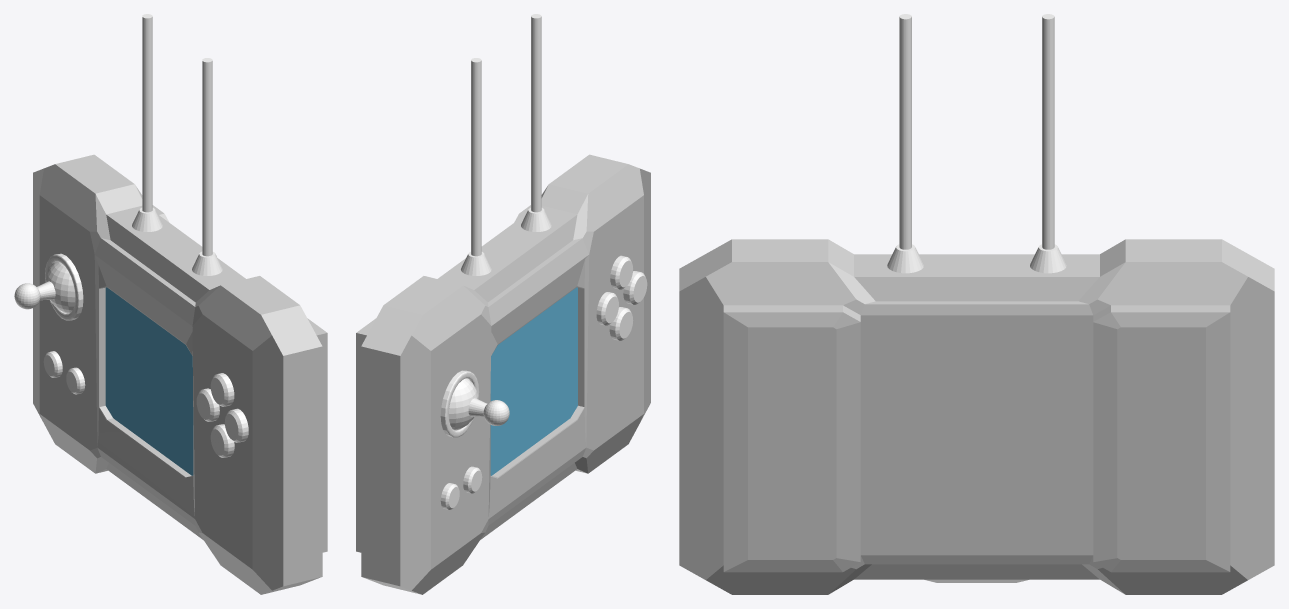
File: remoteControl.glb
3 renders of one model, left to right at view 1: azimuth 30°, elevation 25°; view 2: azimuth 150°, elevation 25°; view 3: azimuth 270°, elevation 25°, orthographic. The views are drawn at different scales.
Parts seen in each view (by area): view 1: 显示屏; view 2: 显示屏; view 3: 显示屏.
Part boxes in pixels (x1=…): 显示屏: x1=14, y1=14, x2=327, y2=594; 显示屏: x1=356, y1=14, x2=650, y2=594; 显示屏: x1=679, y1=14, x2=1274, y2=594.
Bounding box in the file's own units: 4.05 × 14.47 × 13.78.
